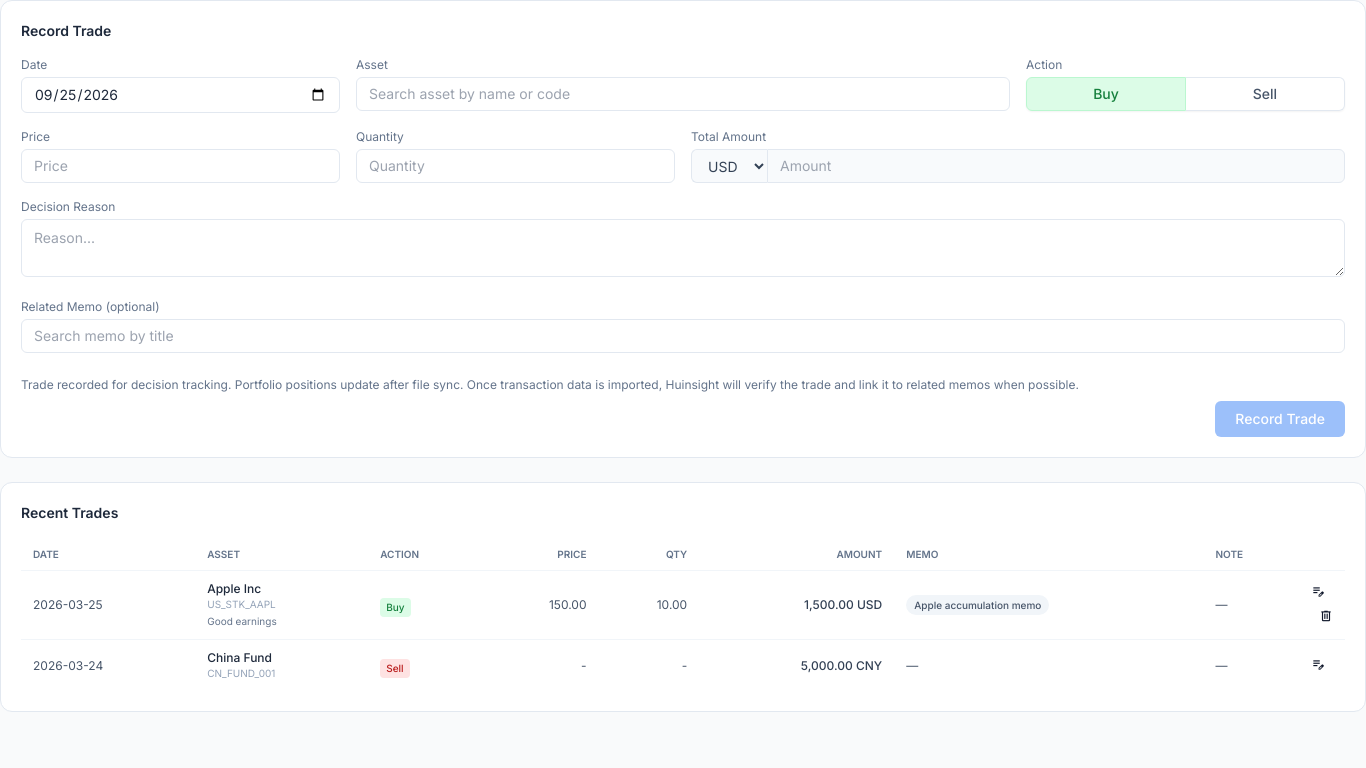
Test: TradeRecorder › allows adding a process note to an imported trade without deleting it
This screenshot has width=1366, height=768.
Expected: the text "China Fund" is shown, x1=207 y1=650 x2=272 y2=665
Click the button titled "Add process note" in the row of "2026-03-24" at [1318, 666], box x1=1311 y1=654 x2=1325 y2=678
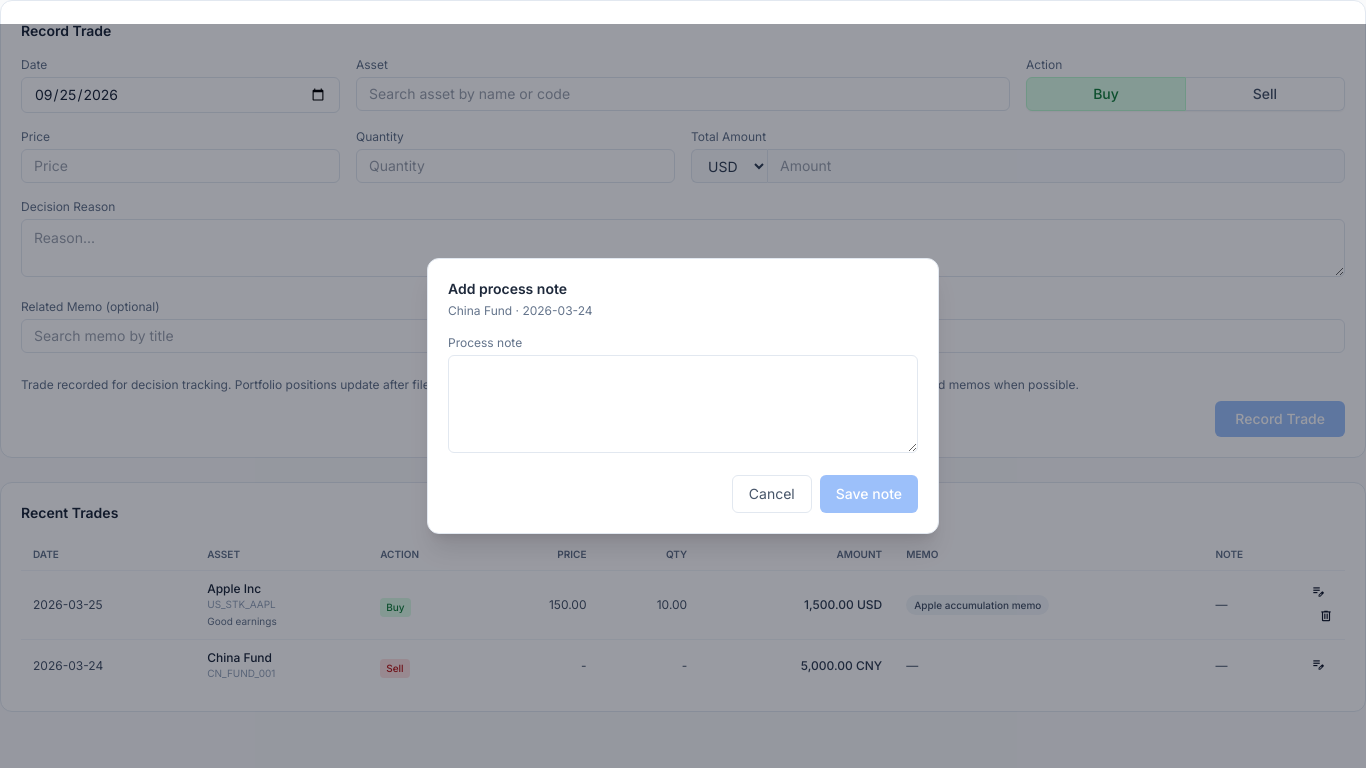
Type "Transferred to IBKR; informational note only." into the text box labelled "Process note" at [683, 404], box x1=448 y1=355 x2=918 y2=453
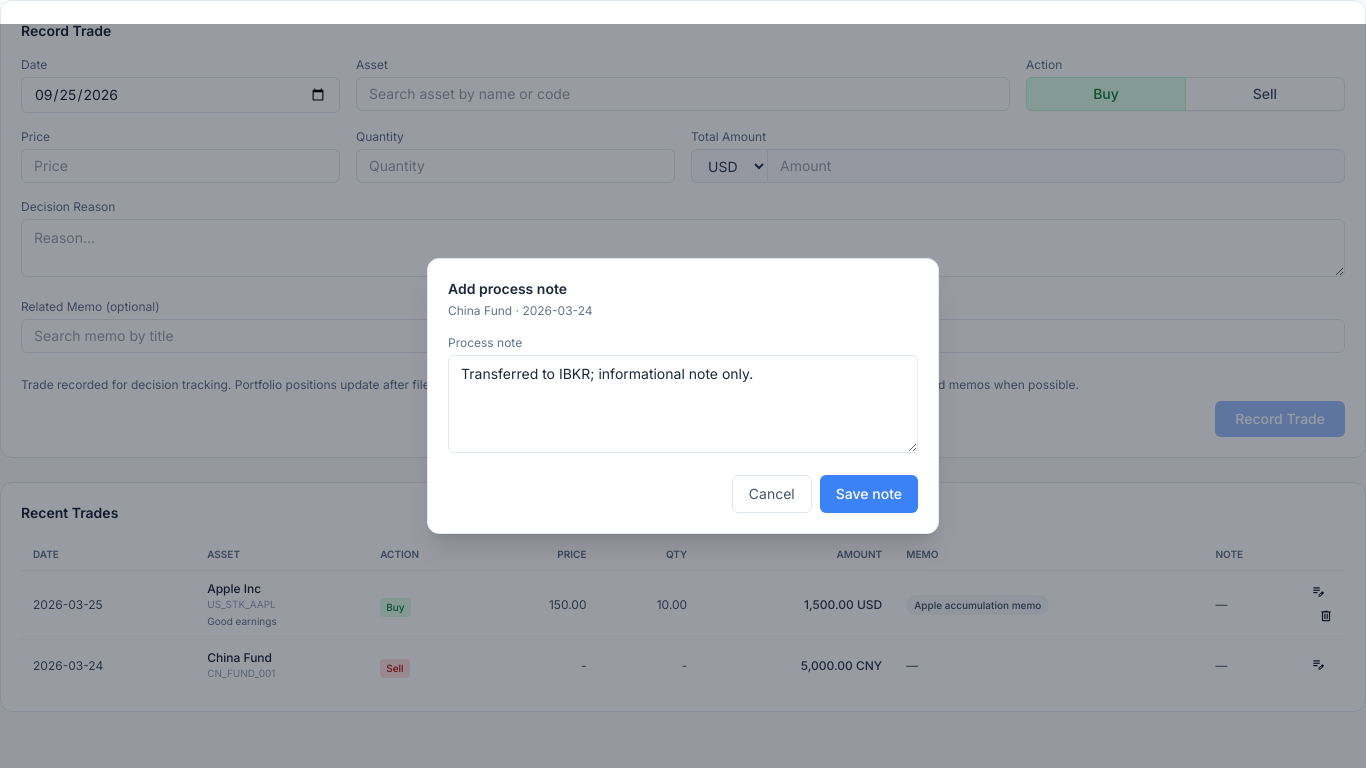
Click the button "Save note" at [869, 494], box x1=820 y1=475 x2=918 y2=513
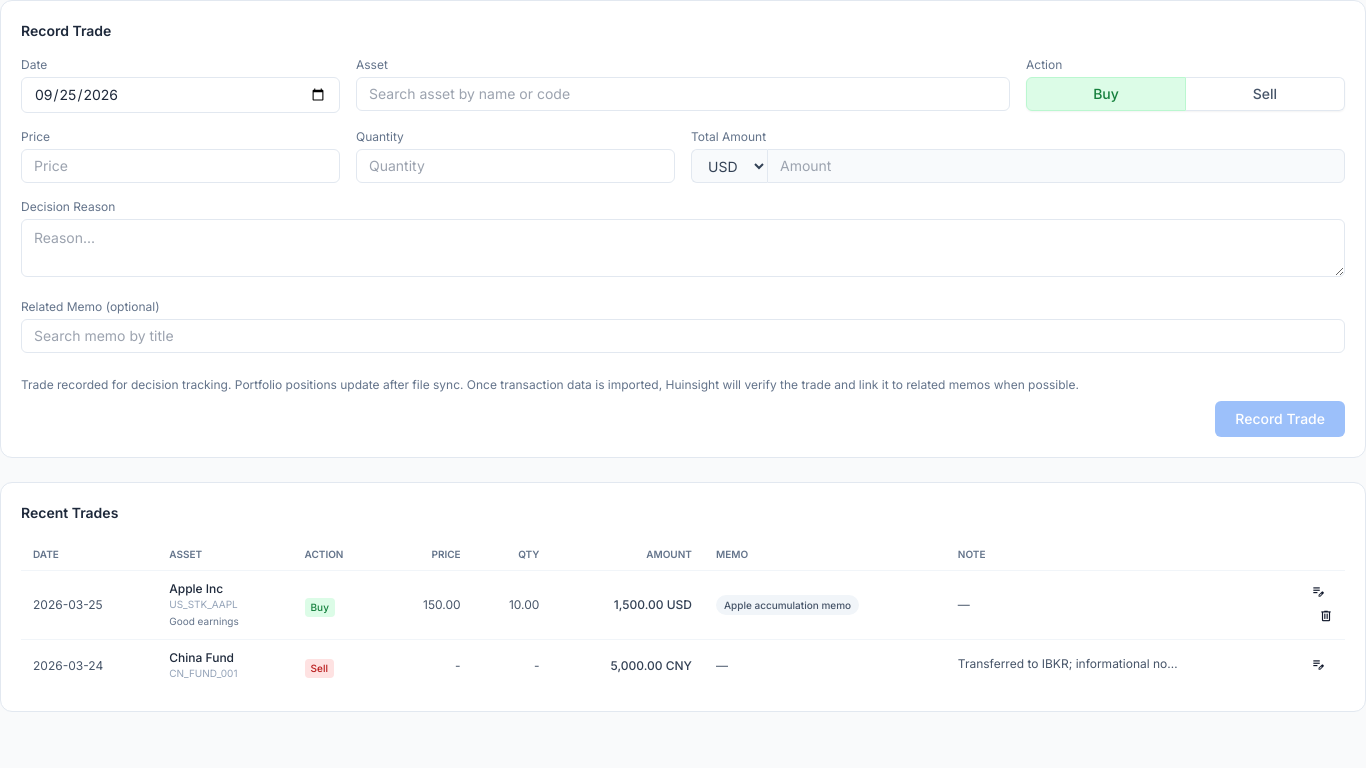
Result: the text "Transferred to IBKR; informational note only." is shown at x1=958 y1=656 x2=1178 y2=672
